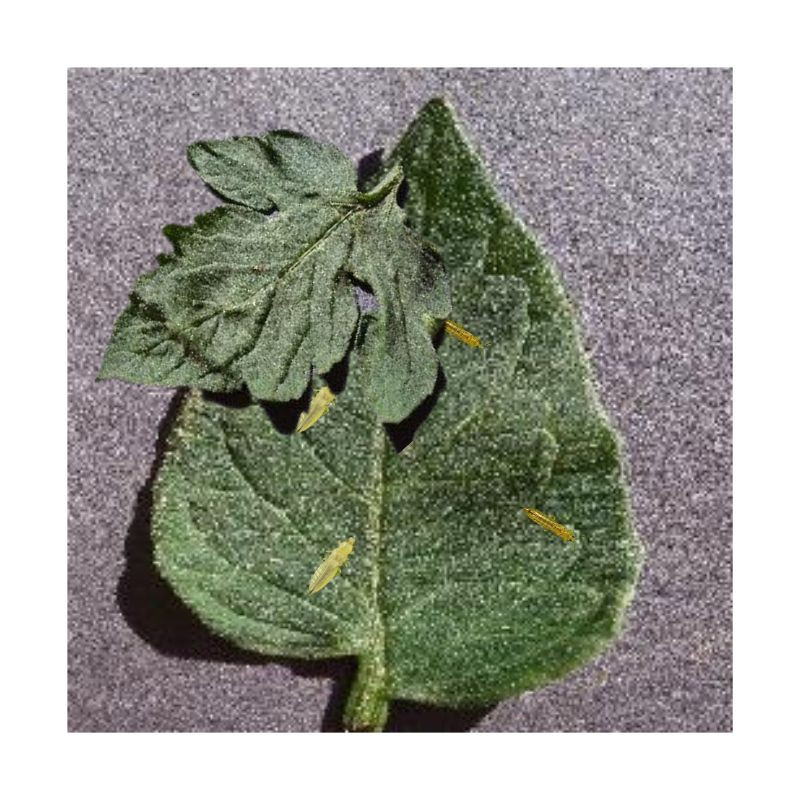thrips: (301, 533, 360, 594), (291, 382, 338, 433), (519, 506, 577, 544), (443, 322, 481, 349)
